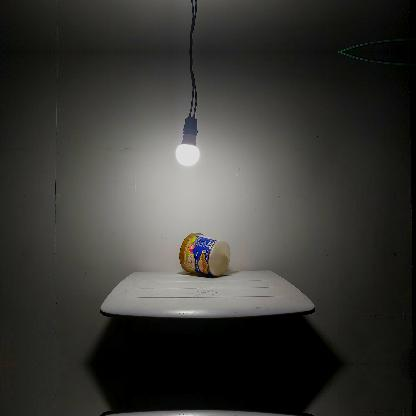Lady-s-Choice: (178, 231, 232, 277)
